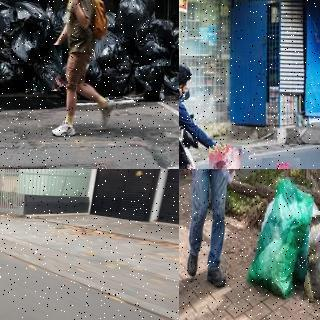Garbage: (247, 175, 313, 300), (113, 0, 156, 42), (7, 20, 46, 65), (30, 43, 65, 93), (127, 54, 163, 93), (135, 30, 172, 66), (102, 55, 136, 93), (306, 216, 320, 304), (205, 144, 245, 169), (0, 59, 24, 92), (259, 155, 303, 169), (164, 58, 179, 95)
